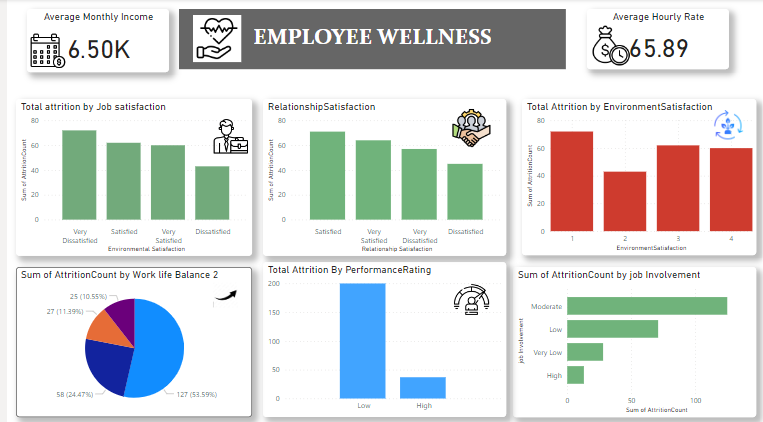

The dashboard page shown, as its layout file describes it:
{"tool":"powerbi","page":{"name":"page5","canvas":[1280,720],"ordinal":4},"visuals":[{"type":"card","title":"Average Monthly Income","fields":{"Values":["Avg(HR-Employee-Attrition.MonthlyIncome)"]},"box":[33.6,16.8,238.2,105.7],"z":0},{"type":"card","title":"Average Hourly Rate","fields":{"Values":["Avg(HR-Employee-Attrition.HourlyRate)"]},"box":[973,16.8,238.2,100.7],"z":1000},{"type":"columnChart","title":" Total attrition by Job satisfaction","fields":{"Category":["HR-Employee-Attrition.Environmental Satisfaction"],"Y":["Sum(HR-Employee-Attrition.AttritionCount)"]},"box":[15.1,167.8,395.9,263.4],"z":2000},{"type":"barChart","fields":{"Y":["Sum(HR-Employee-Attrition.AttritionCount)"],"Category":["HR-Employee-Attrition.job Involvement"]},"box":[848.9,449.6,407.7,251.6],"z":3000},{"type":"columnChart","title":"RelationshipSatisfaction","fields":{"Category":["HR-Employee-Attrition.Relationship Satisfaction"],"Y":["Sum(HR-Employee-Attrition.AttritionCount)"]},"box":[429.5,167.8,407.7,263.4],"z":4000},{"type":"columnChart","title":"Total Attrition By  PerformanceRating","fields":{"Category":["HR-Employee-Attrition.Rating"],"Y":["Sum(HR-Employee-Attrition.AttritionCount)"]},"box":[429.5,441.2,407.7,260],"z":5000},{"type":"pieChart","fields":{"Category":["HR-Employee-Attrition.Work life Balance 2"],"Y":["Sum(HR-Employee-Attrition.AttritionCount)"]},"box":[15.1,449.6,395.9,251.6],"z":6000},{"type":"columnChart","title":"Total Attrition by EnvironmentSatisfaction","fields":{"Category":["HR-Employee-Attrition.EnvironmentSatisfaction"],"Y":["Sum(HR-Employee-Attrition.AttritionCount)"]},"box":[864,167.8,392.6,261.7],"z":7000},{"type":"image","box":[340.6,469.7,52,53.7],"z":8000},{"type":"image","box":[738.1,179.5,82.2,73.8],"z":10000},{"type":"image","box":[1181,179.5,58.7,62.1],"z":11000},{"type":"image","box":[744.8,469.7,68.8,68.8],"z":12000},{"type":"image","box":[340.6,191.2,70.5,77.2],"z":13000},{"type":"image","box":[33.6,52,70.5,70.5],"z":14000},{"type":"image","box":[973,38.6,80.5,78.8],"z":15000},{"type":"textbox","box":[288.5,16.8,649.2,100.7],"z":16000},{"type":"image","box":[312,26.8,80.5,78.8],"z":17000}]}

Visuals, with their boxes in screenshot pixels (x1, y1, x2, y2), scaled from the page's 1280x720 canvas onto the 763x422 screenshot:
"Average Monthly Income" card: {"left": 20, "top": 10, "right": 162, "bottom": 72}
"Average Hourly Rate" card: {"left": 580, "top": 10, "right": 722, "bottom": 69}
" Total attrition by Job satisfaction" columnChart: {"left": 9, "top": 98, "right": 245, "bottom": 253}
barChart - Sum(HR-Employee-Attrition.AttritionCount) x HR-Employee-Attrition.job Involvement: {"left": 506, "top": 264, "right": 749, "bottom": 411}
"RelationshipSatisfaction" columnChart: {"left": 256, "top": 98, "right": 499, "bottom": 253}
"Total Attrition By  PerformanceRating" columnChart: {"left": 256, "top": 259, "right": 499, "bottom": 411}
pieChart - HR-Employee-Attrition.Work life Balance 2 x Sum(HR-Employee-Attrition.AttritionCount): {"left": 9, "top": 264, "right": 245, "bottom": 411}
"Total Attrition by EnvironmentSatisfaction" columnChart: {"left": 515, "top": 98, "right": 749, "bottom": 252}
image: {"left": 203, "top": 275, "right": 234, "bottom": 307}
image: {"left": 440, "top": 105, "right": 489, "bottom": 148}
image: {"left": 704, "top": 105, "right": 739, "bottom": 142}
image: {"left": 444, "top": 275, "right": 485, "bottom": 316}
image: {"left": 203, "top": 112, "right": 245, "bottom": 157}
image: {"left": 20, "top": 30, "right": 62, "bottom": 72}
image: {"left": 580, "top": 23, "right": 628, "bottom": 69}
textbox: {"left": 172, "top": 10, "right": 559, "bottom": 69}
image: {"left": 186, "top": 16, "right": 234, "bottom": 62}
